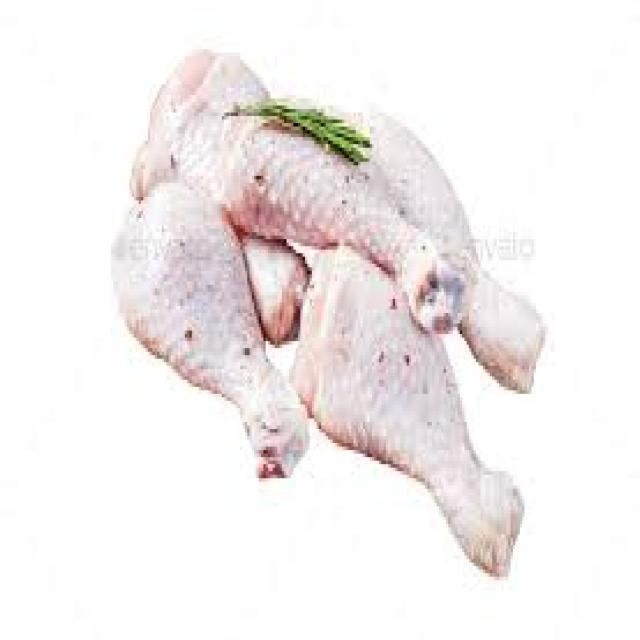leg: (136, 41, 438, 306), (304, 238, 519, 586), (344, 96, 542, 390), (110, 189, 300, 490)
